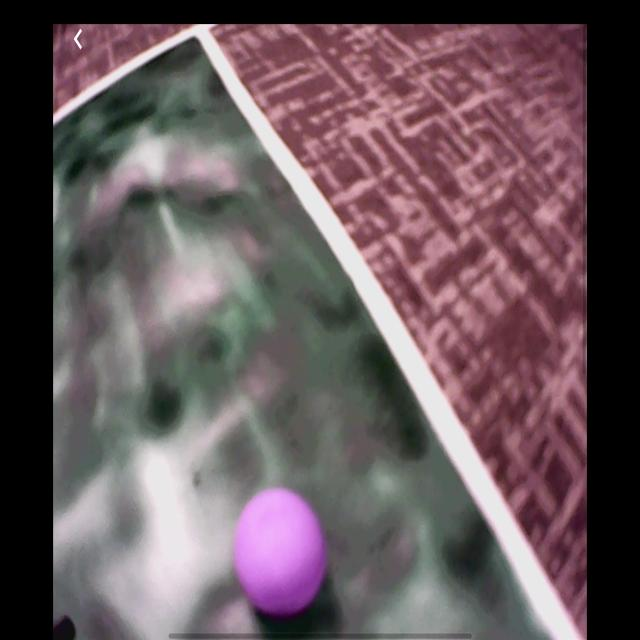ball: (237, 490, 325, 617)
